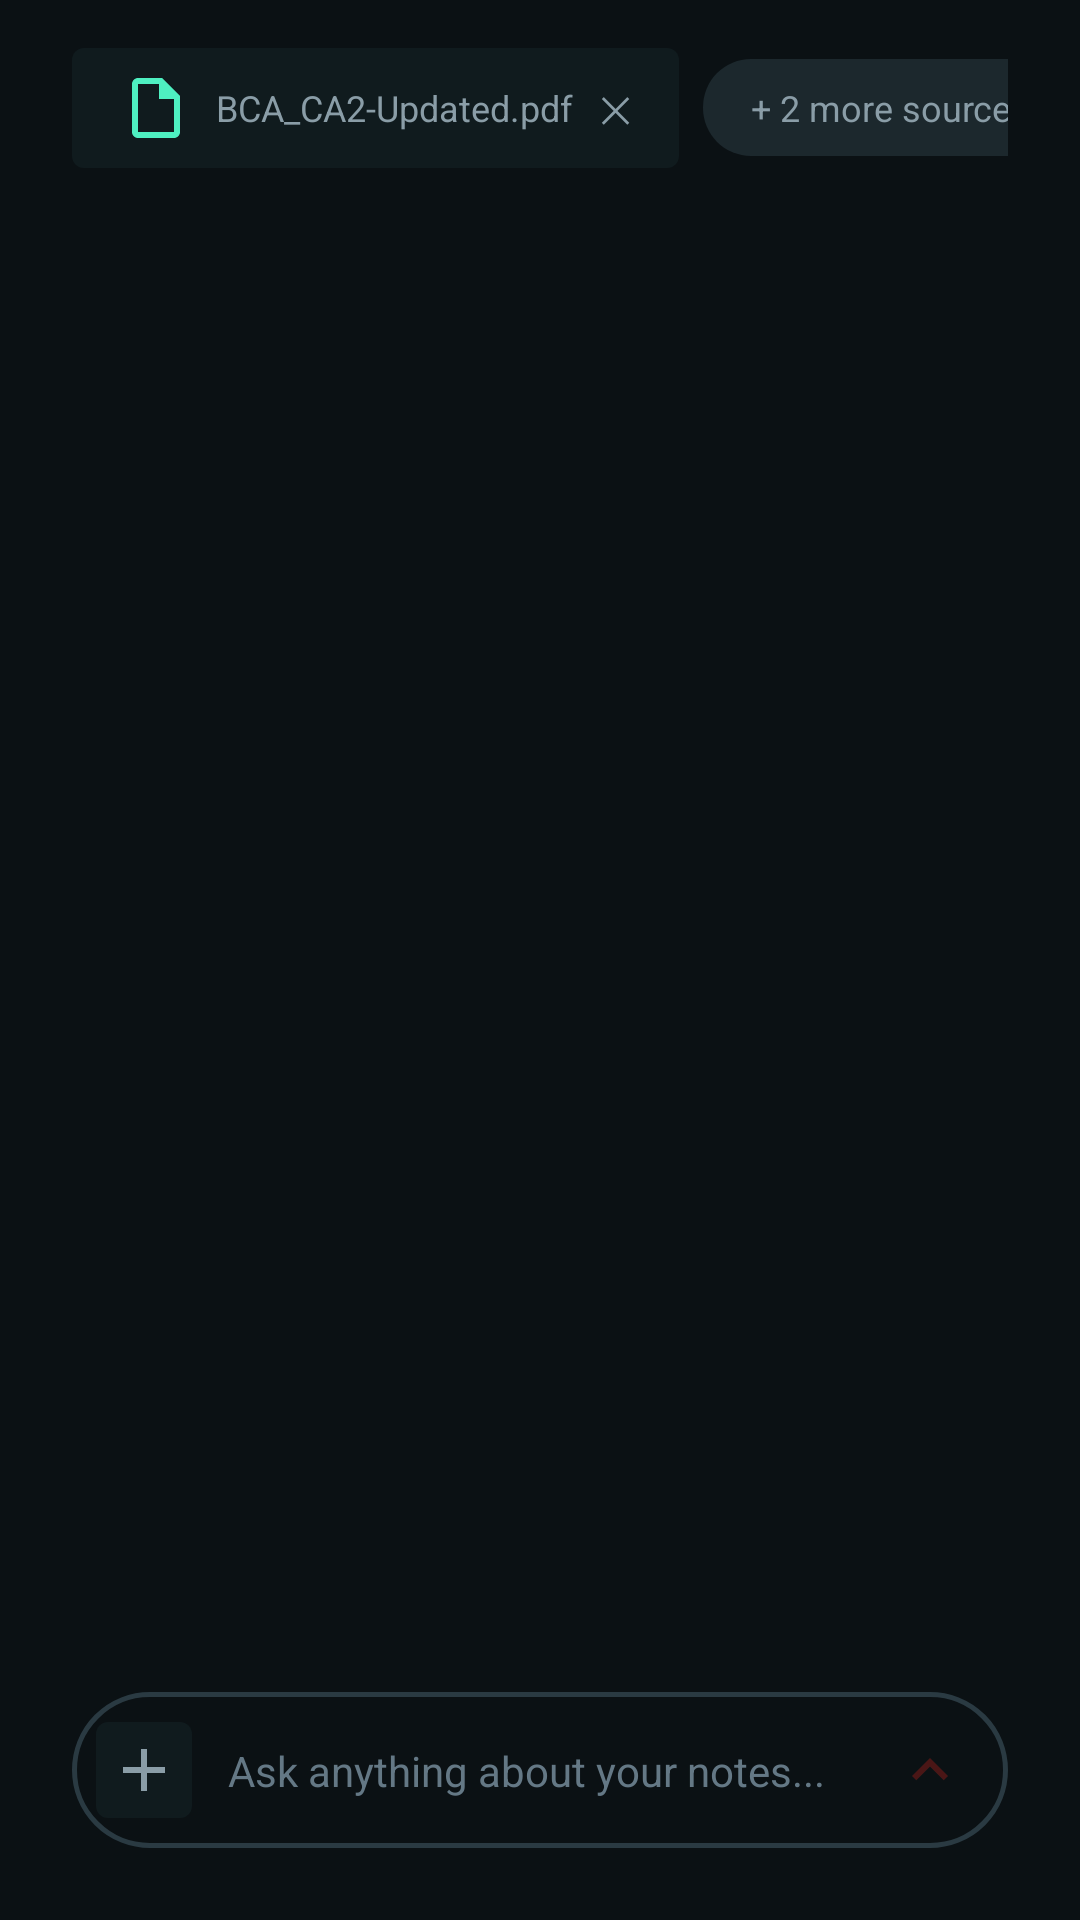

Named icons in this screenshot (1080px x 1920px) and their centers, (x=x, y=y):
add: (x=144, y=1770)
